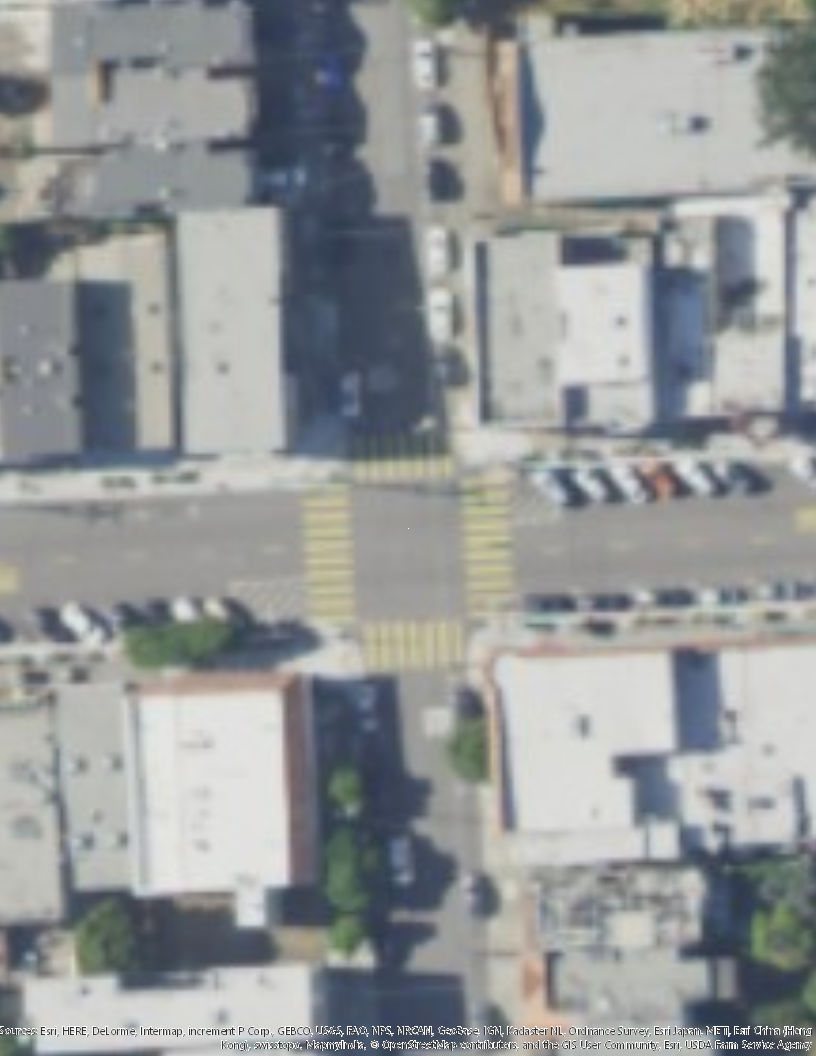zebracross: (296, 484, 359, 630), (458, 473, 514, 612), (361, 624, 473, 666), (356, 433, 452, 481)
